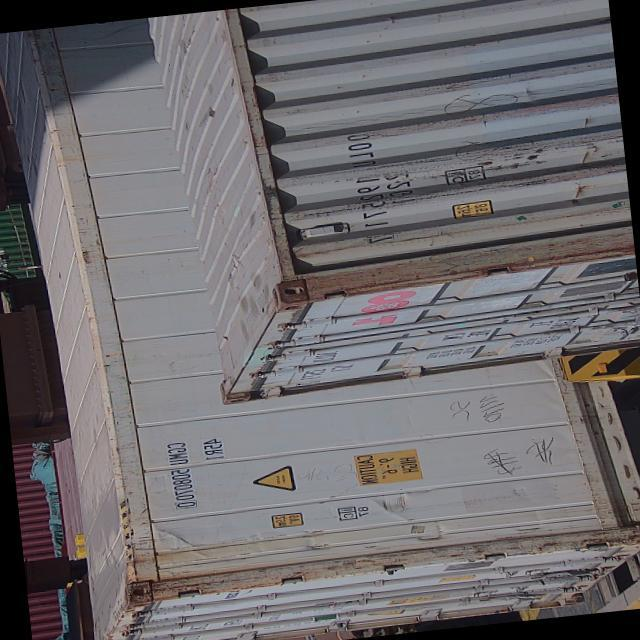rust: (257, 230, 596, 315), (110, 548, 335, 615)
